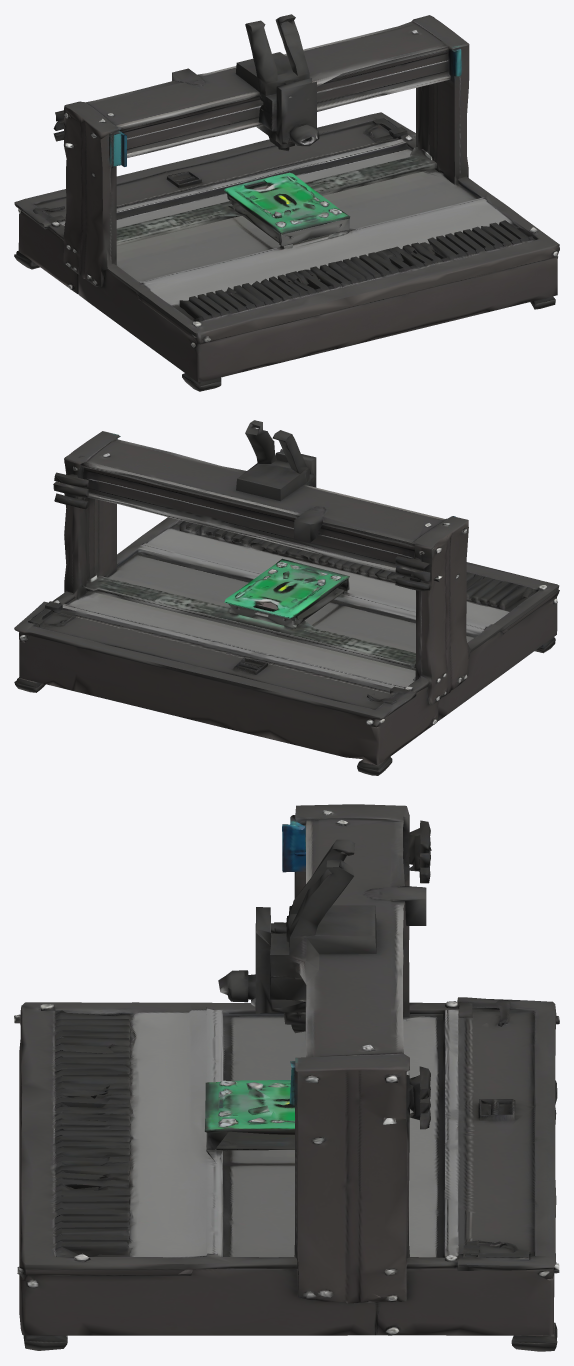
File: 16_openpnp_machine.glb
3 views of the same model, one above another, from view 1: azimuth 30°, elevation 25°; view 2: azimuth 150°, elevation 25°; view 3: azimuth 270°, elevation 25° (orthographic). The views are drawn at different scales.
Parts seen in each view (by area): view 1: tripo_node_fa25ef33-b2e9-42a3-8538-c7e7b37ef34e; view 2: tripo_node_fa25ef33-b2e9-42a3-8538-c7e7b37ef34e; view 3: tripo_node_fa25ef33-b2e9-42a3-8538-c7e7b37ef34e.
Part boxes in pixels (x1,y1,x2,y2): tripo_node_fa25ef33-b2e9-42a3-8538-c7e7b37ef34e: [14, 14, 559, 391]; tripo_node_fa25ef33-b2e9-42a3-8538-c7e7b37ef34e: [14, 420, 559, 775]; tripo_node_fa25ef33-b2e9-42a3-8538-c7e7b37ef34e: [14, 804, 559, 1351].
Bounding box in the file's own units: 0.7 × 0.45 × 0.6.
Materials: 1 (1 with a texture image).
